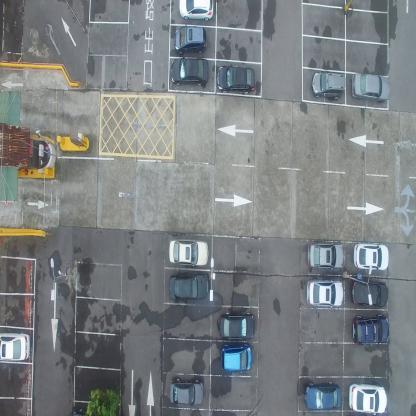car: (351, 313, 390, 347), (348, 382, 388, 415), (351, 72, 389, 104), (169, 238, 209, 268), (169, 58, 209, 88), (350, 275, 388, 306), (217, 66, 256, 96), (169, 271, 209, 300), (353, 241, 389, 272), (307, 240, 344, 270), (304, 381, 341, 411), (306, 279, 344, 308), (0, 330, 32, 364), (310, 71, 346, 100), (170, 376, 204, 406), (219, 312, 254, 340), (174, 26, 207, 53), (220, 344, 252, 371), (178, 0, 214, 23)
